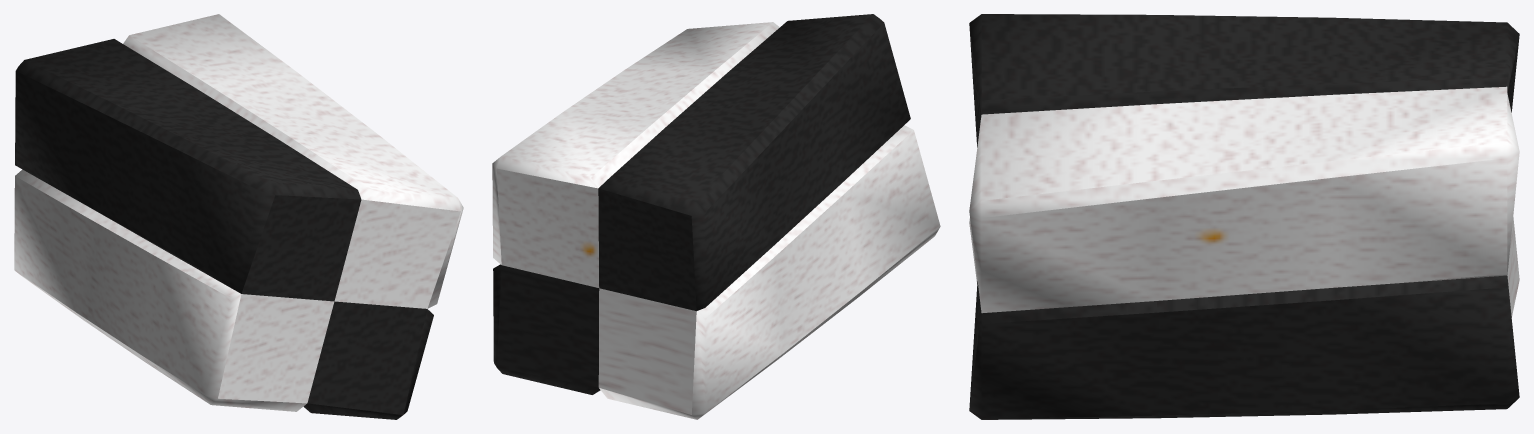
The model's file is LicoriceCube_UV_FBX.fbx.
3 views of the same model, side by side, from view 1: azimuth 30°, elevation 25°; view 2: azimuth 150°, elevation 25°; view 3: azimuth 270°, elevation 25° (orthographic). The views are drawn at different scales.
Visible parts, largest first — view 1: Checker; view 2: Checker; view 3: Checker.
Boxes of the visible parts, box(x1,y1,x2,y2) form: Checker: box(14, 14, 463, 419); Checker: box(492, 14, 940, 419); Checker: box(969, 14, 1519, 419).
Size of the model in its own units: 121 by 119 by 180.
